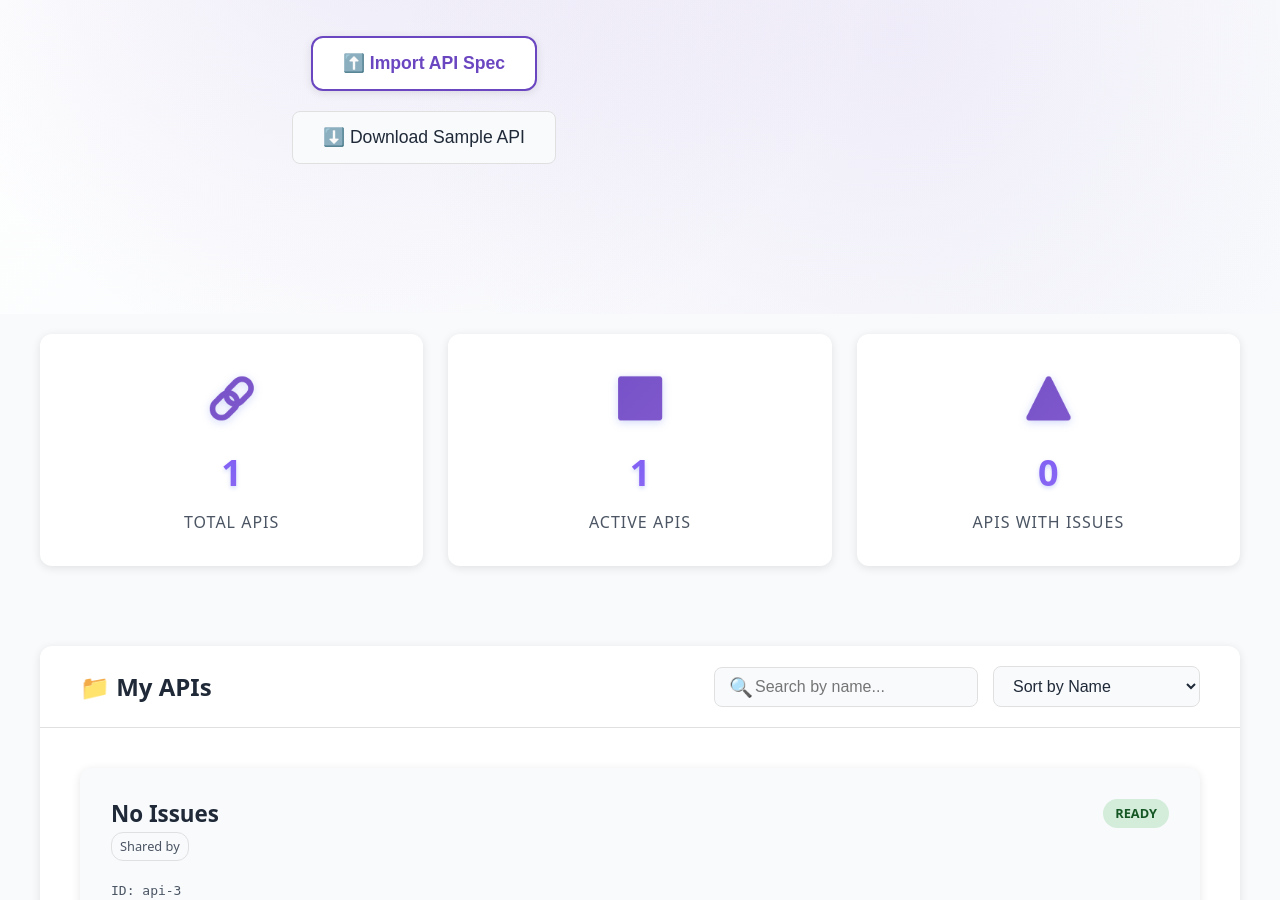
ManageAPIs Component - Working Additional Tests › filter by issues shows "No APIs Match" when no API has issues
Expected: the heading "No Issues" is shown, [111,798,219,829]
Click the element showing "⚠️ 0 APIs with Issues". click: (1048, 450)
box: [857,334,1240,566]
(page scrolled)
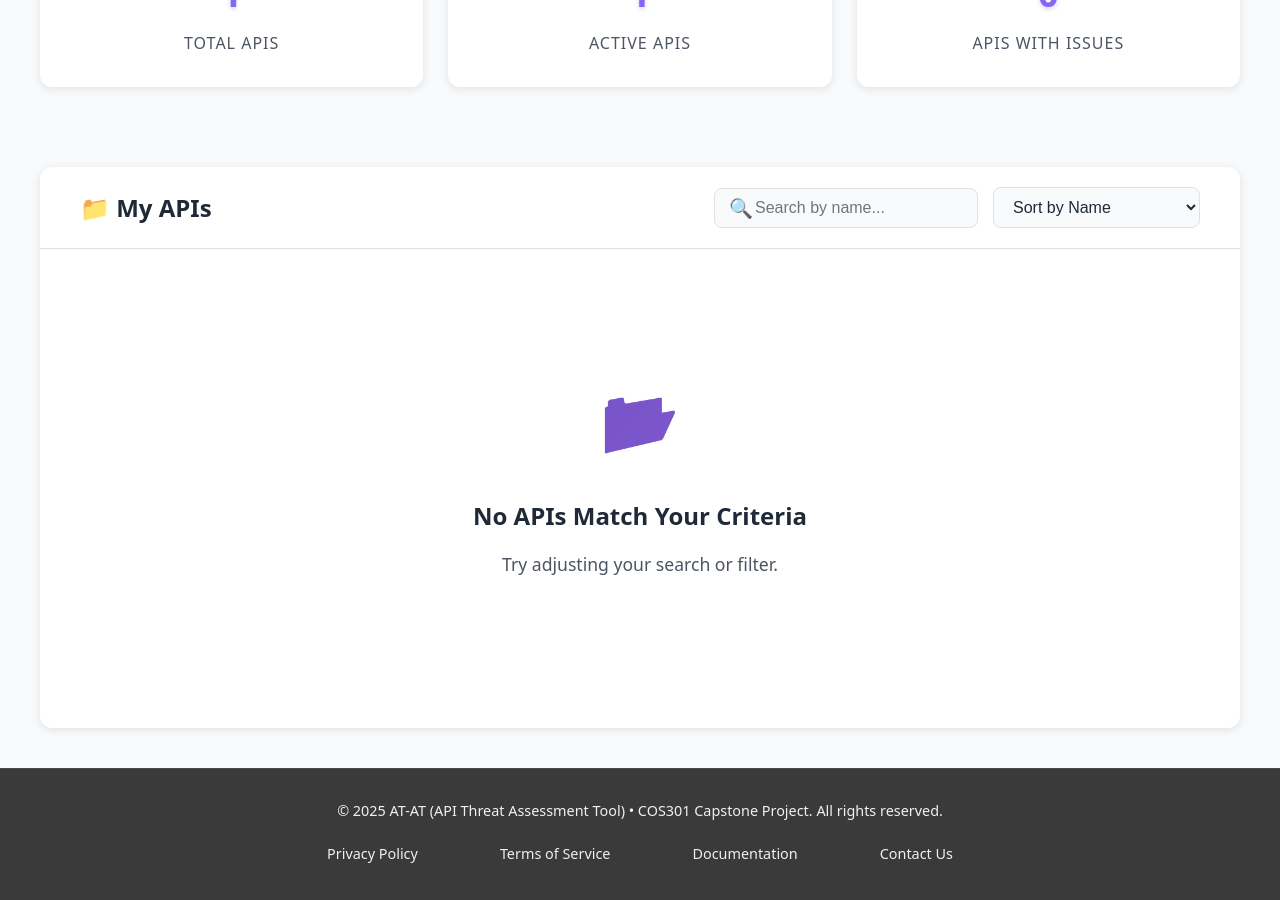
Expected: the heading "No Issues" is gone
Expected: the heading "No APIs Match Your Criteria" is shown, [473,499,807,532]
